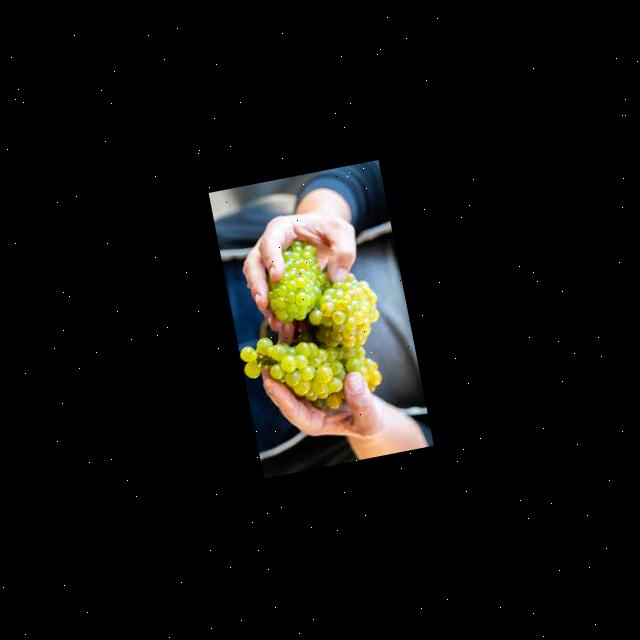grape: (220, 227, 397, 426)
